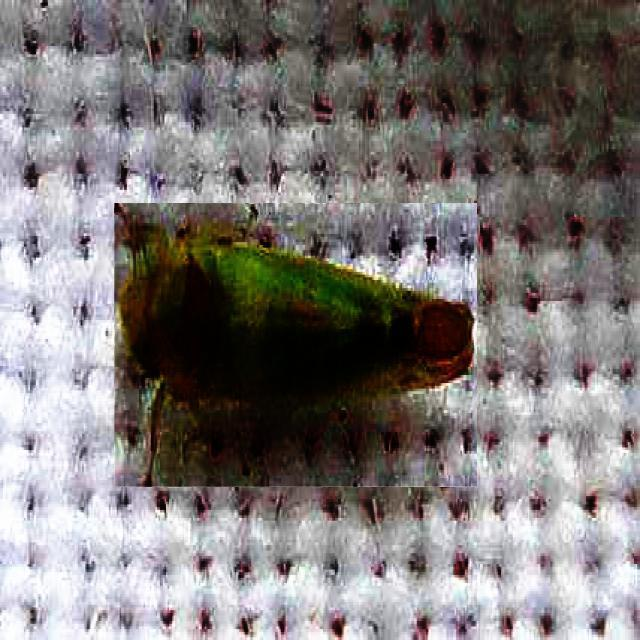green-leafhopper: (115, 204, 477, 486)
